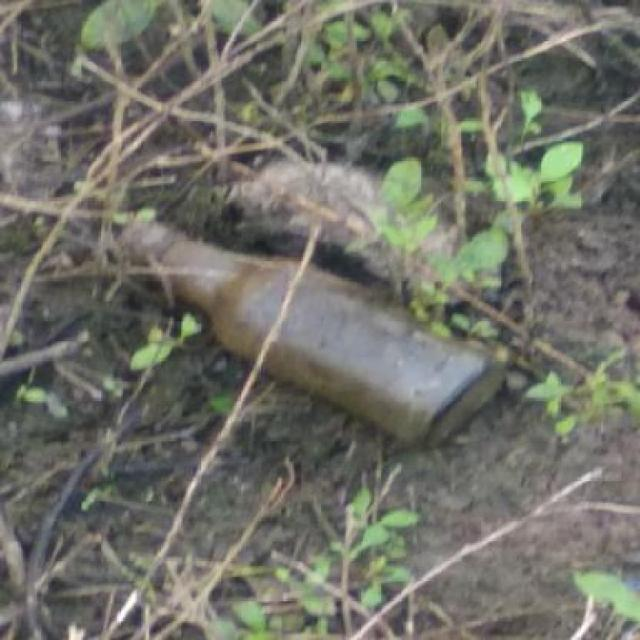garbage: (68, 200, 487, 514)
